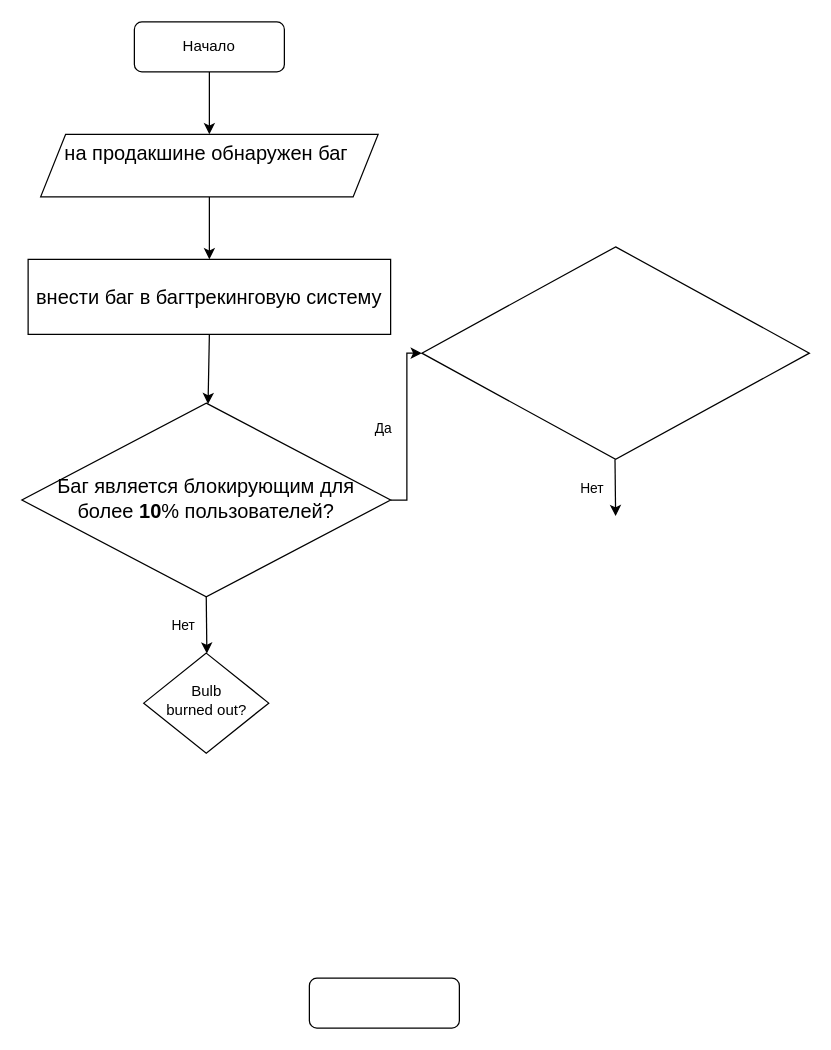
Some shapes in this 831 by 1050 pixel diagram are drawn without their labels. The centre of each missing label's shape, as x and y in pixels:
"Repair Lamp" belongs at (383,1002).
"баг блокируете критически важную операционную деятельность компании" belongs at (615,352).
